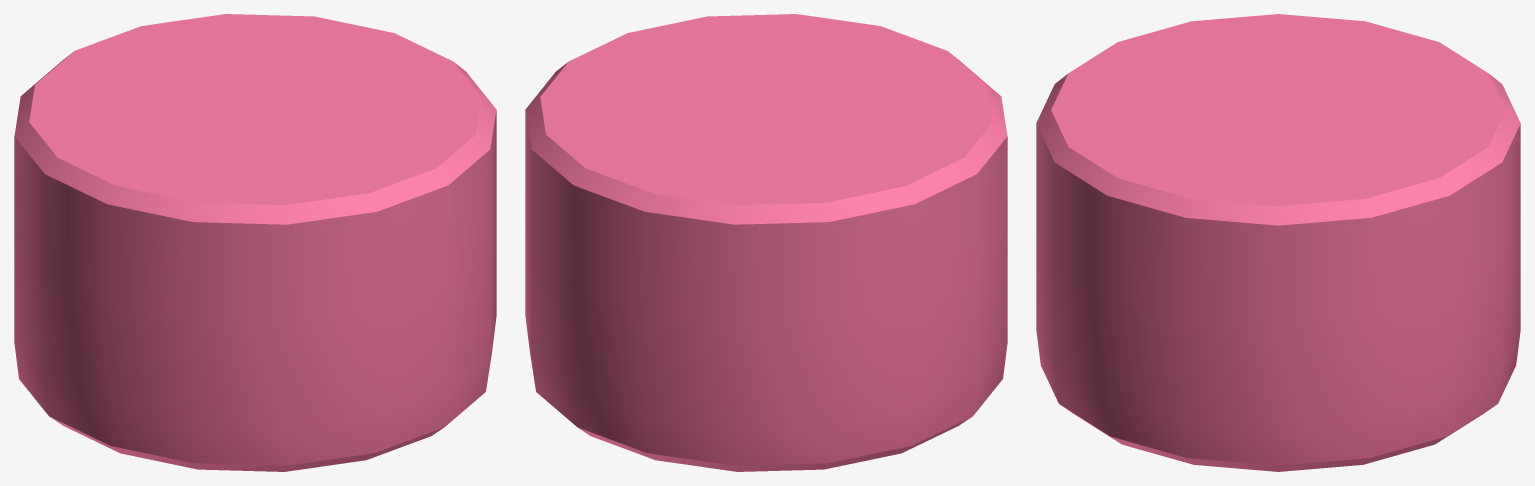
Rendered from Body_City_Dress_Pink_01.fbx.
3 views of the same model, side by side, from view 1: azimuth 30°, elevation 25°; view 2: azimuth 150°, elevation 25°; view 3: azimuth 270°, elevation 25° (orthographic).
Visible parts, largest first — view 1: Body_City_Dress_Pink_01; view 2: Body_City_Dress_Pink_01; view 3: Body_City_Dress_Pink_01.
Boxes of the visible parts, box(x1,y1,x2,y2) form: Body_City_Dress_Pink_01: box(14, 14, 496, 471); Body_City_Dress_Pink_01: box(525, 14, 1007, 471); Body_City_Dress_Pink_01: box(1036, 14, 1520, 471).
Size of the model in its own units: 100 by 61.13 by 100.
